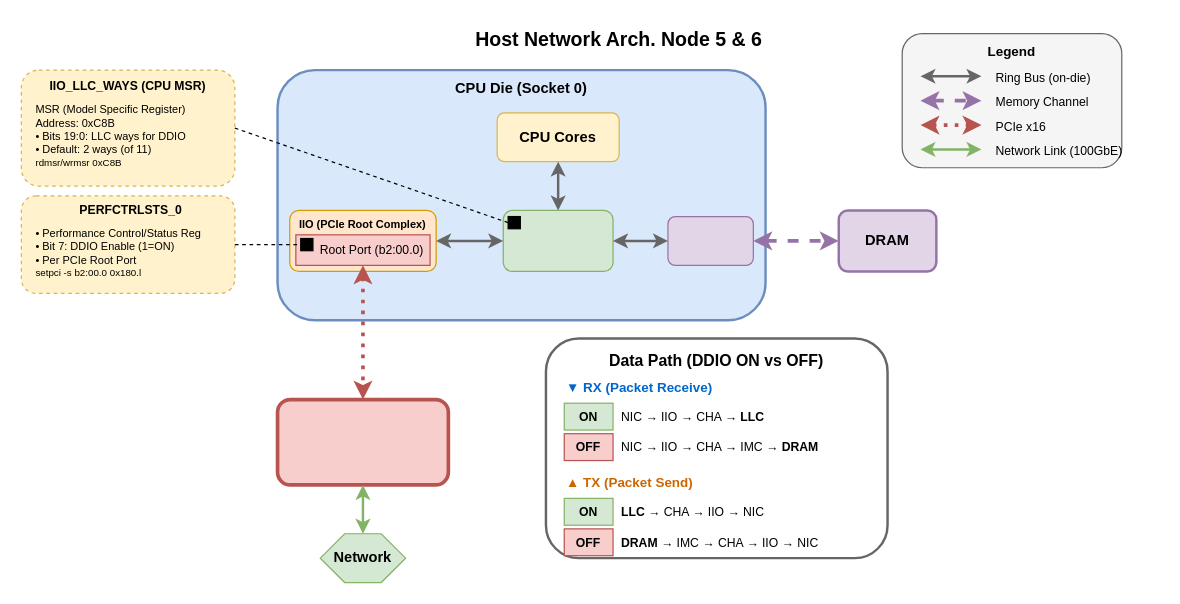
This 1180x604 diagram has some shape labels left out. Each missing label, with the centre of its shape:
CHA (LLC): point 557,240
IMC: point 710,240
Mellanox ConnectX-5 100GbE NIC (b3:00.0) [PCIe Endpoint]: point 362,441
